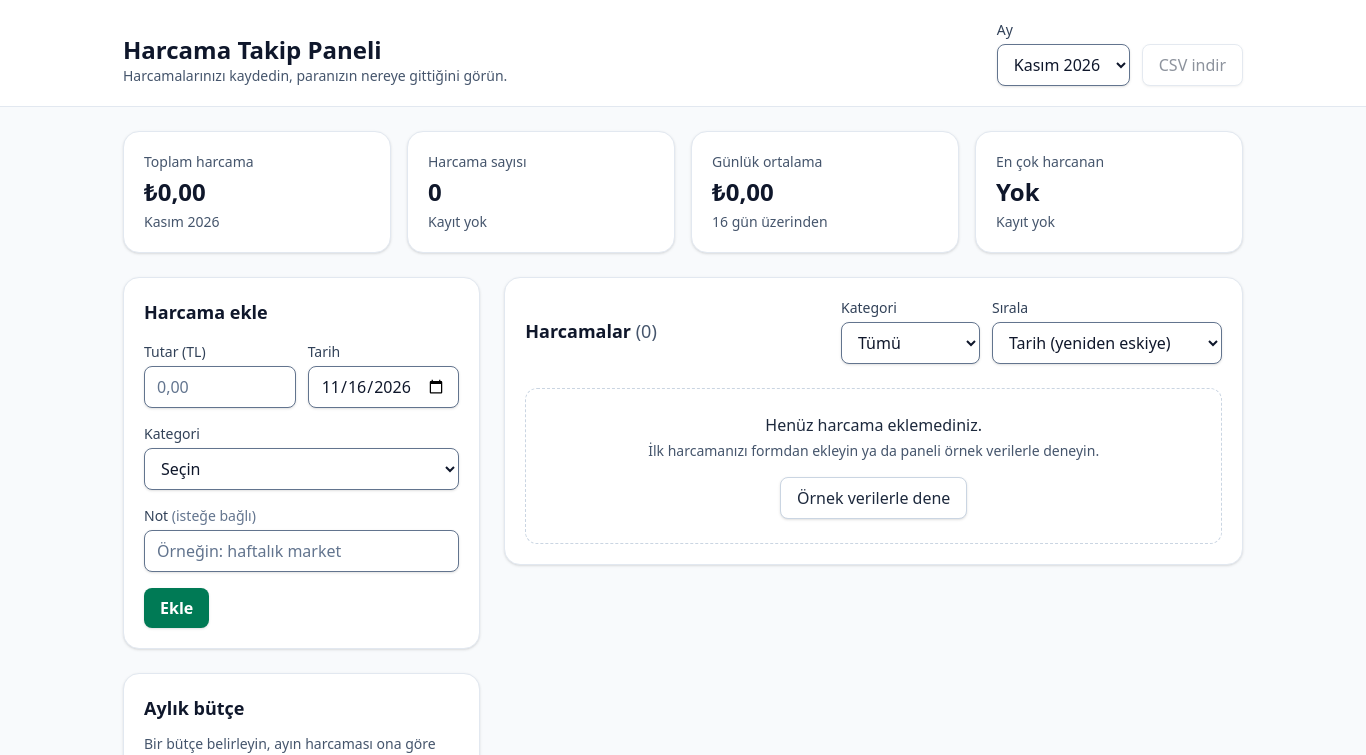
it: adding expenses › moves to the month of an expense dated in another month
Step 1. Type "70" into the field labelled "Tutar (TL)" → (220, 387), box [144,366,296,408]
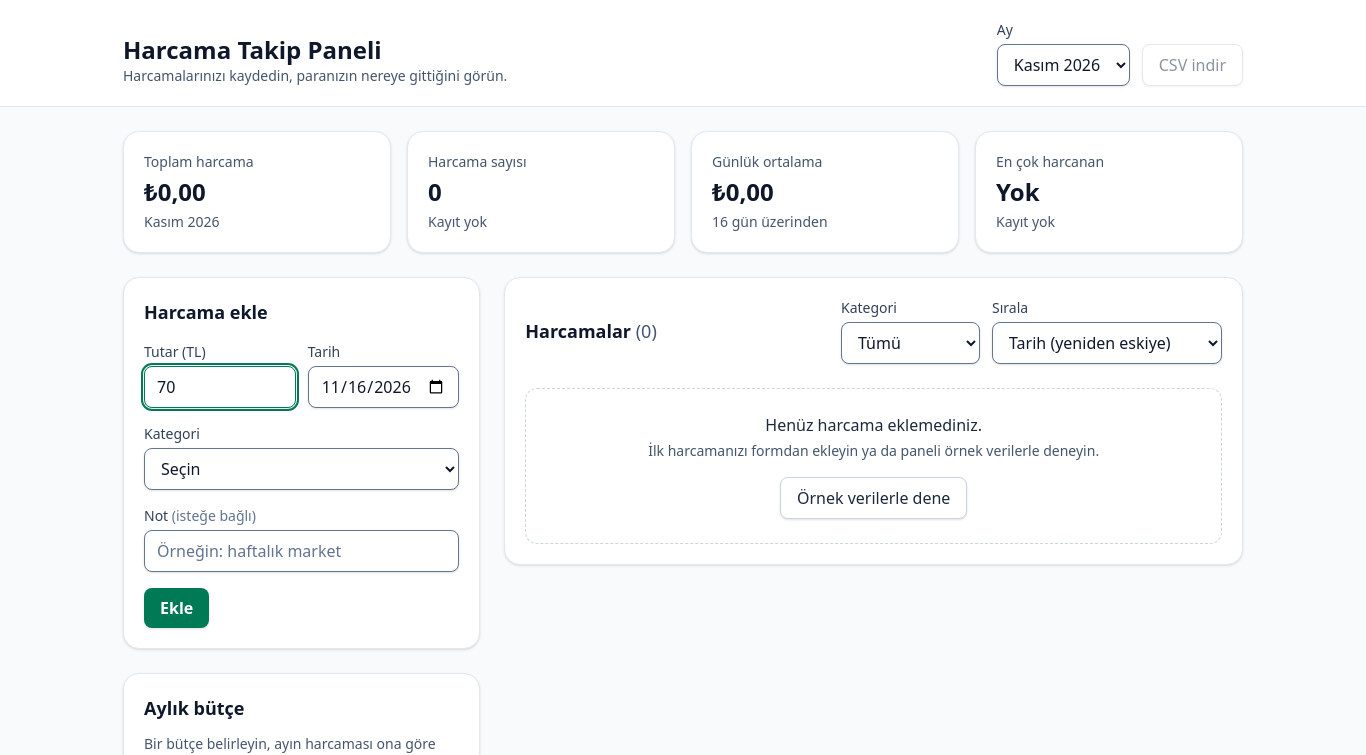
Step 2. Select "Fatura" in the dropdown labelled "Kategori" below "Tutar (TL)" → (302, 469), box [144,448,459,490]
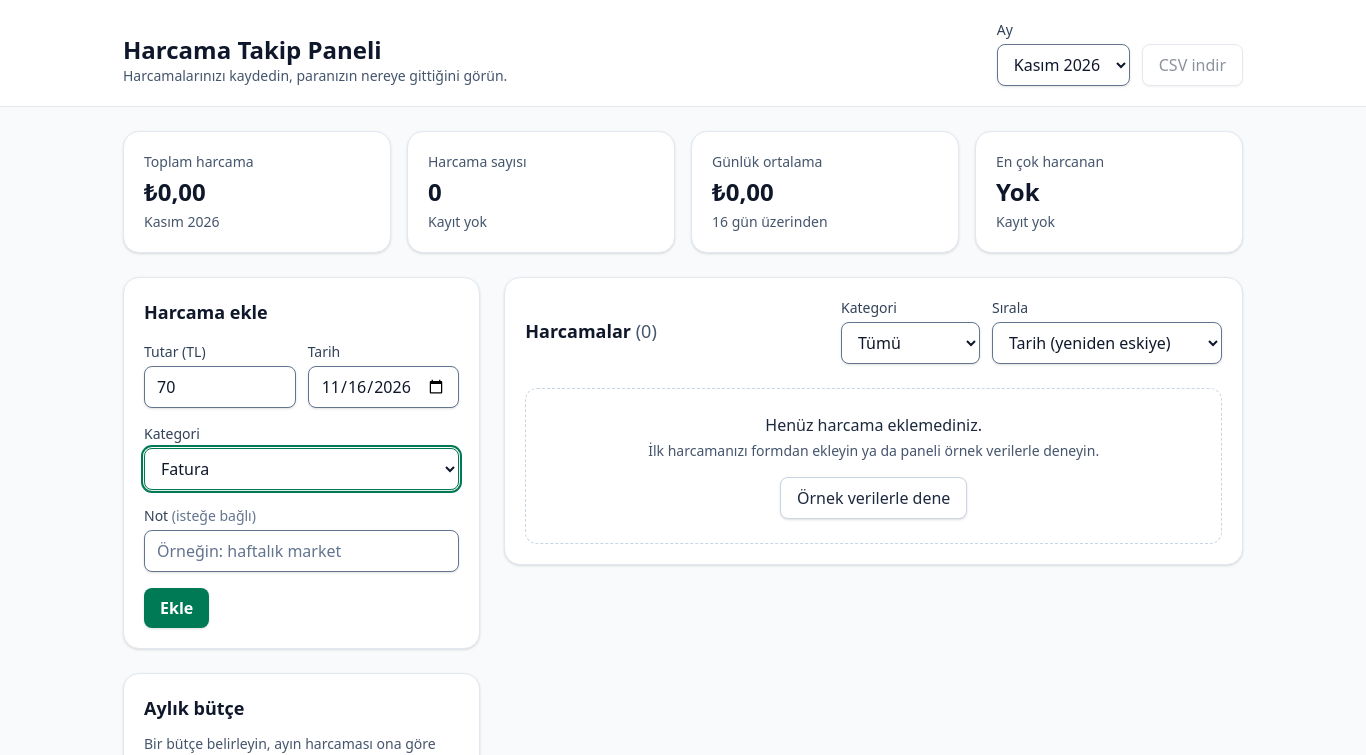
Step 3. Type "2026-10-05" into the date field labelled "Tarih" → (384, 387), box [308,366,459,408]
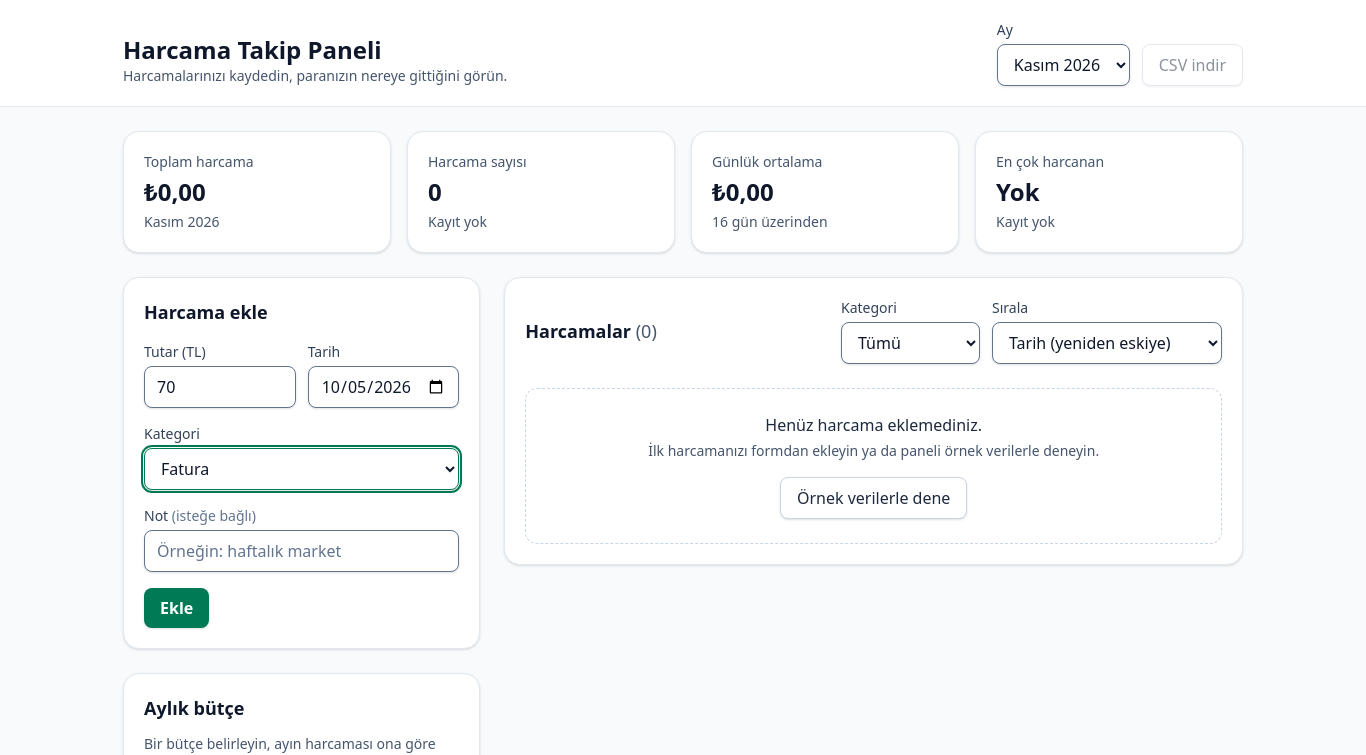
Step 4. Click the button "Ekle" → (177, 608), box [144,588,209,628]
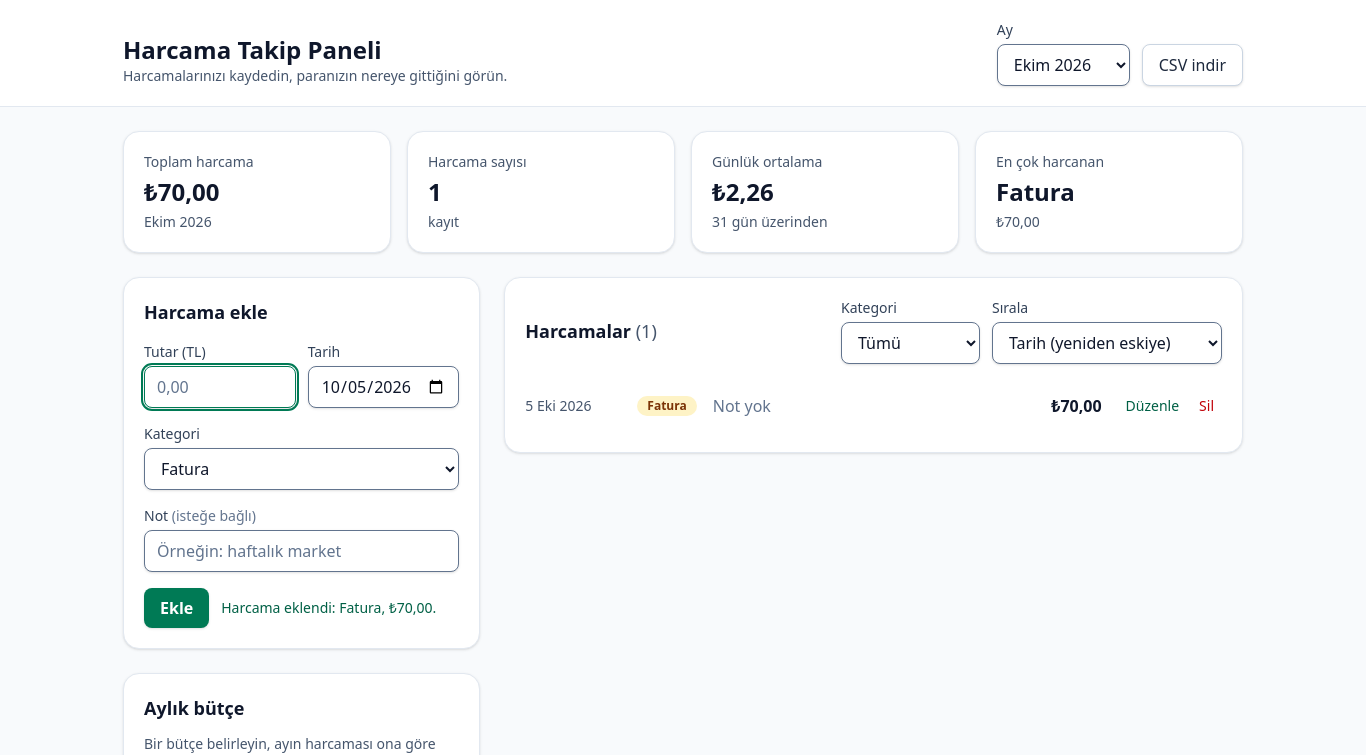
Expected: the dropdown labelled "Ay" shows "Ekim 2026", [997,44,1130,86]
